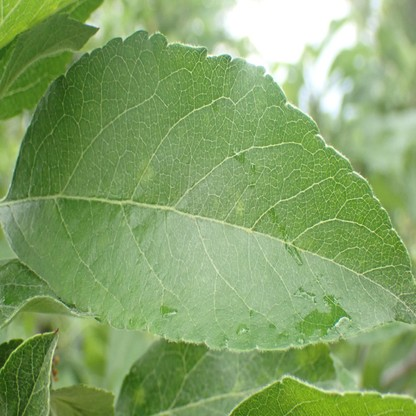scab: (294, 344, 324, 366), (137, 161, 154, 181), (232, 377, 246, 393), (134, 385, 144, 406), (237, 201, 244, 215)
